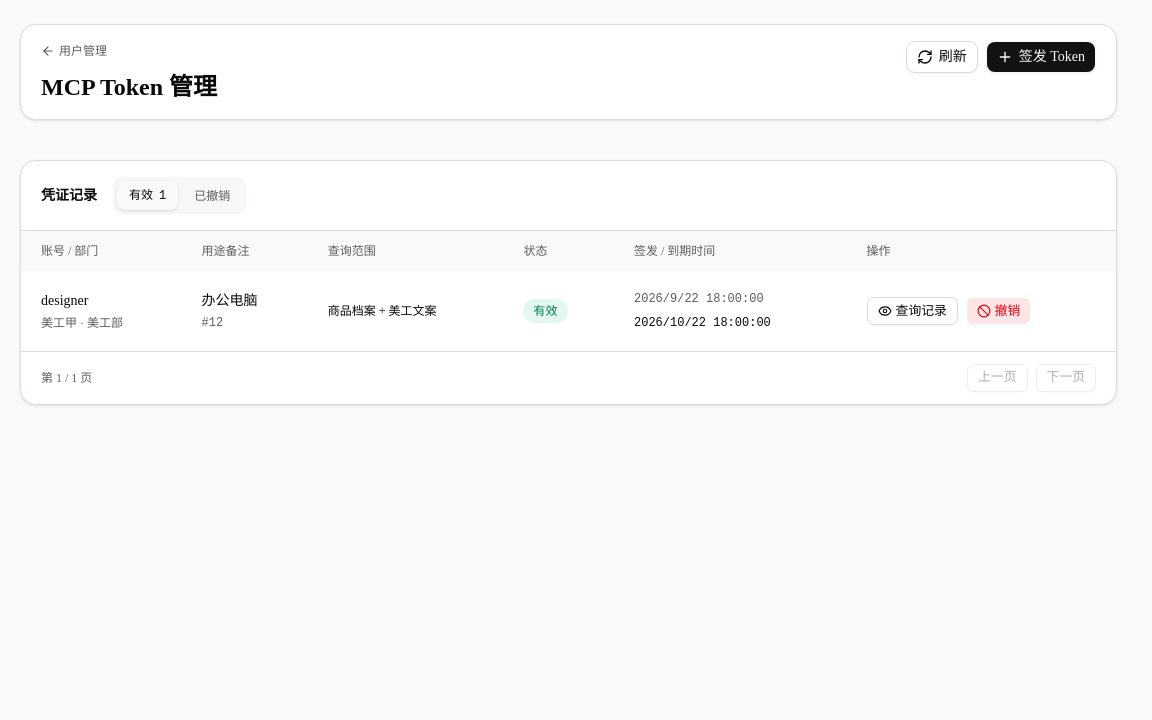
Test: MCP token administration › requires confirmation before revoking and reloads the records
The width and height of the screenshot is (1152, 720).
What coordinates should you click on to do the following:
click the button with aria-label "撤销 办公电脑"
I would click on:
 (999, 311)
Its box is [966, 297, 1031, 325].
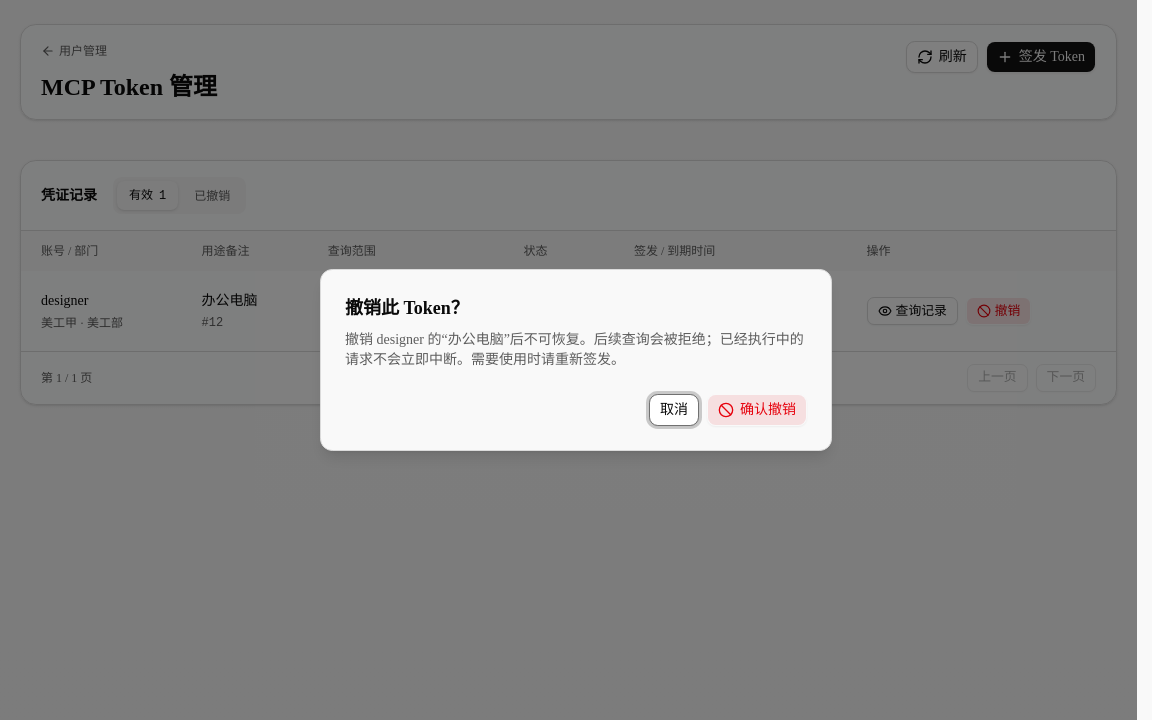
What coordinates should you click on to do the following:
click the button "确认撤销"
I would click on:
 (757, 410)
Its box is [707, 394, 807, 426].
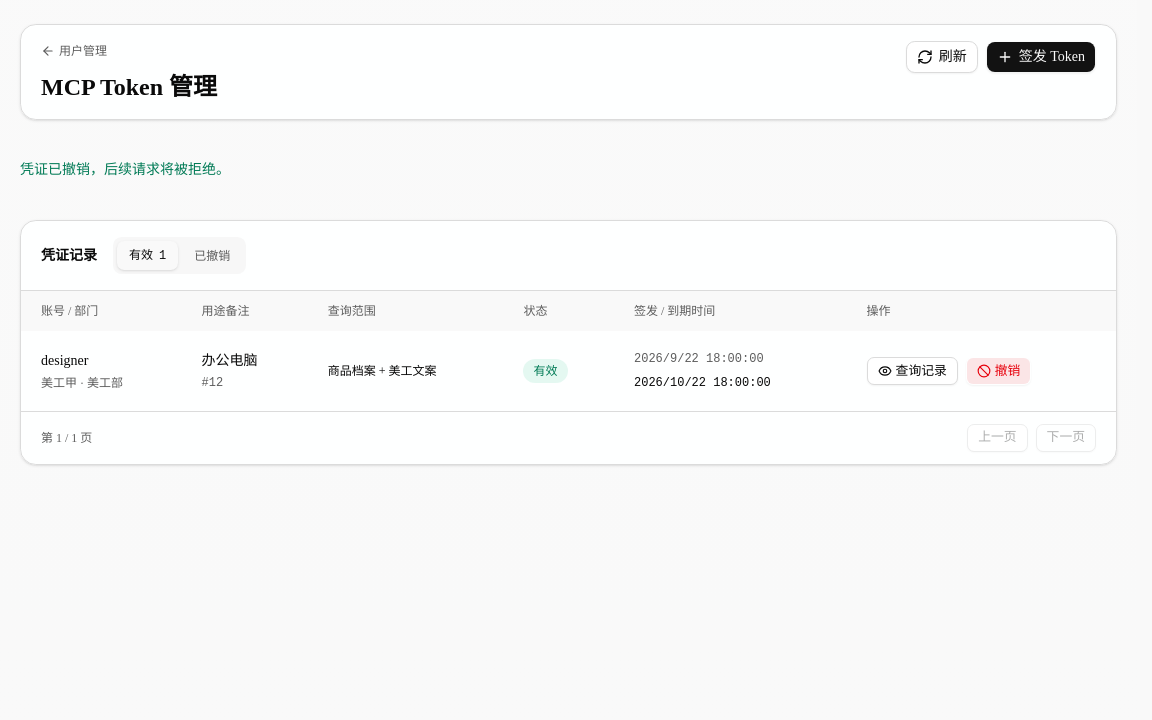
Now the message "凭证已撤销，后续请求将被拒绝。" is shown, box [20, 162, 230, 177]
